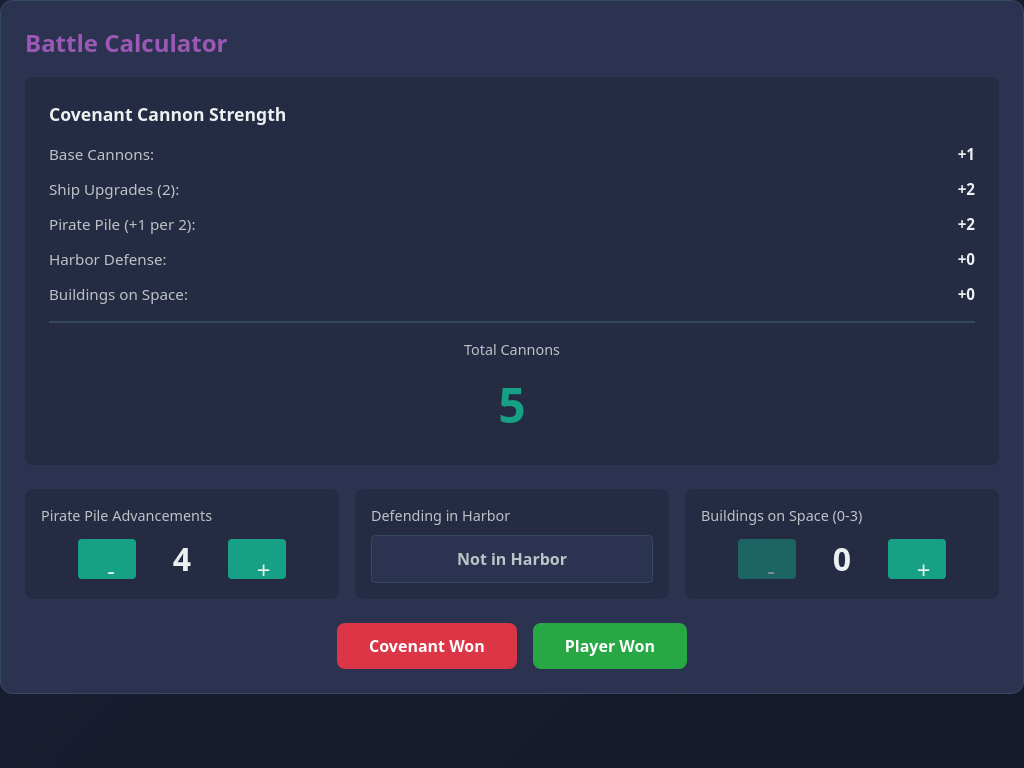
Scenario: BattleCalculator › Buildings on Space Input › disables increase button at 3
What coordinates should you click on to do the following:
click the button named "Increase buildings on space"
I would click on:
 (917, 559)
Its box is top-left (888, 539), bottom-right (946, 579).
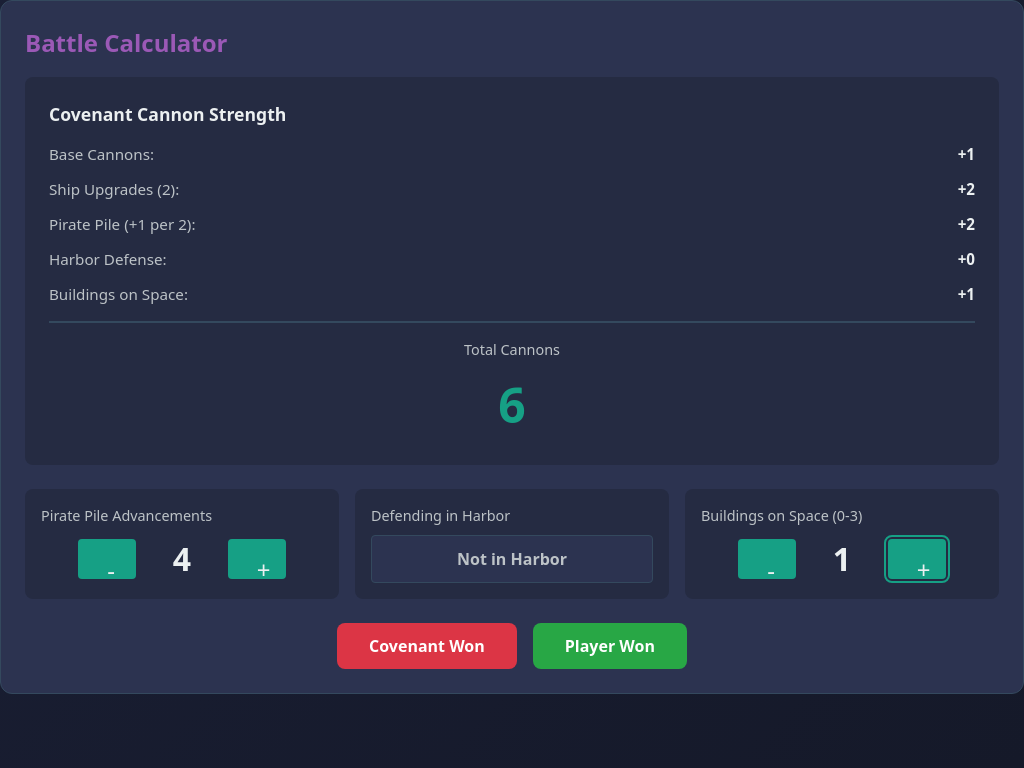
What coordinates should you click on to do the following:
click the button named "Increase buildings on space"
I would click on:
 (917, 559)
Its box is top-left (888, 539), bottom-right (946, 579).
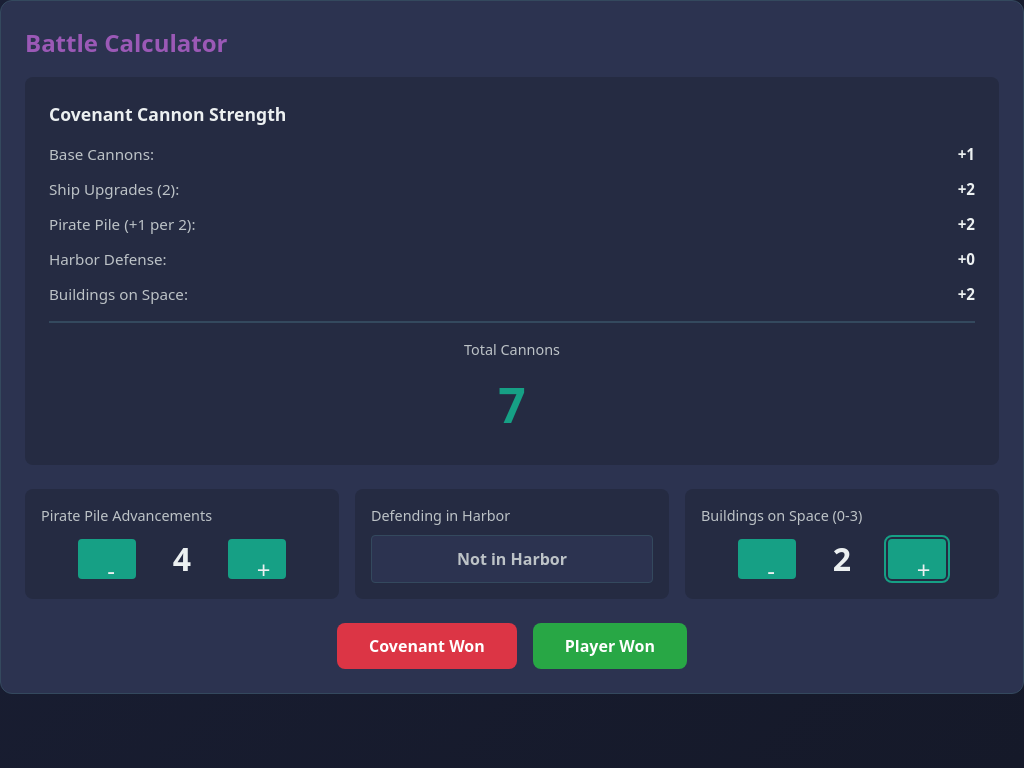
What coordinates should you click on to do the following:
click the button named "Increase buildings on space"
I would click on:
 (917, 559)
Its box is top-left (888, 539), bottom-right (946, 579).
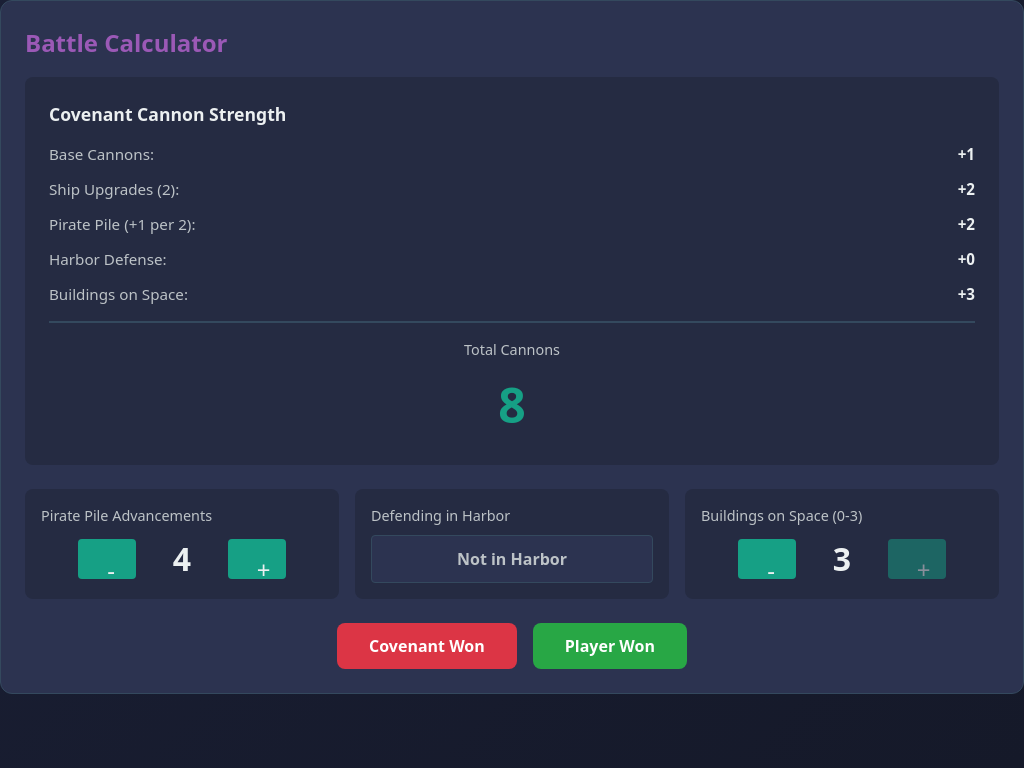
Check: the button named "Increase buildings on space" is disabled, box top-left (888, 539), bottom-right (946, 579)
